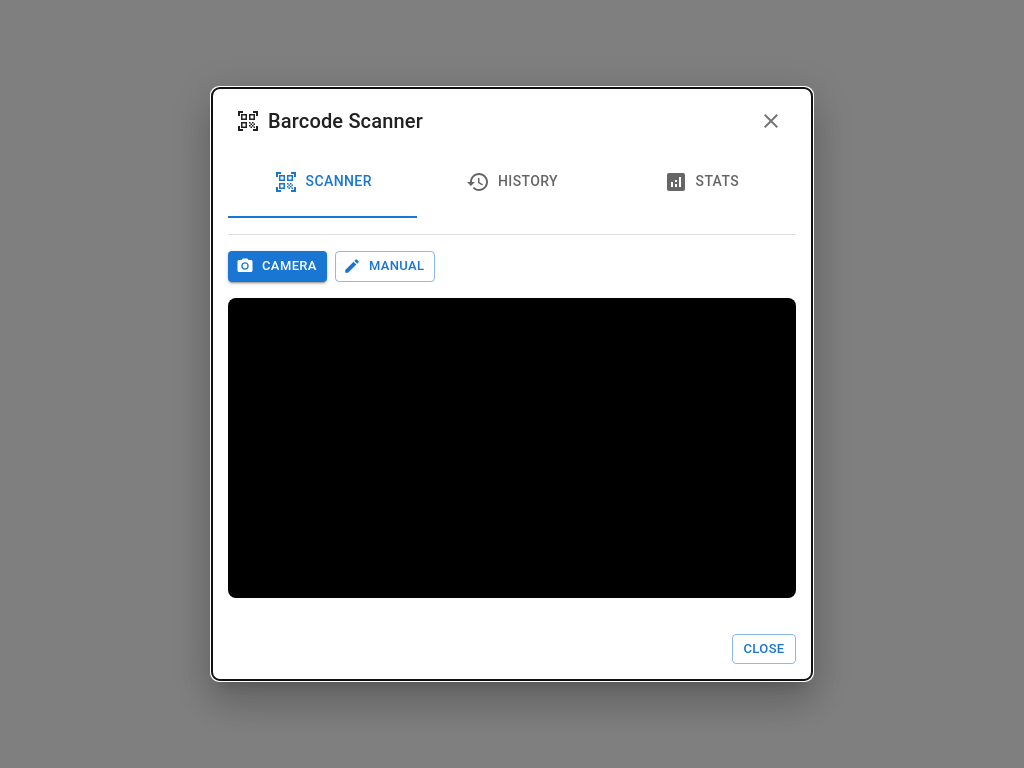
Test: EnhancedBarcodeScanner › should switch between camera and manual modes
Note: Switch to manual mode
Click the button "Manual".
click(385, 266)  # box [335, 251, 435, 282]
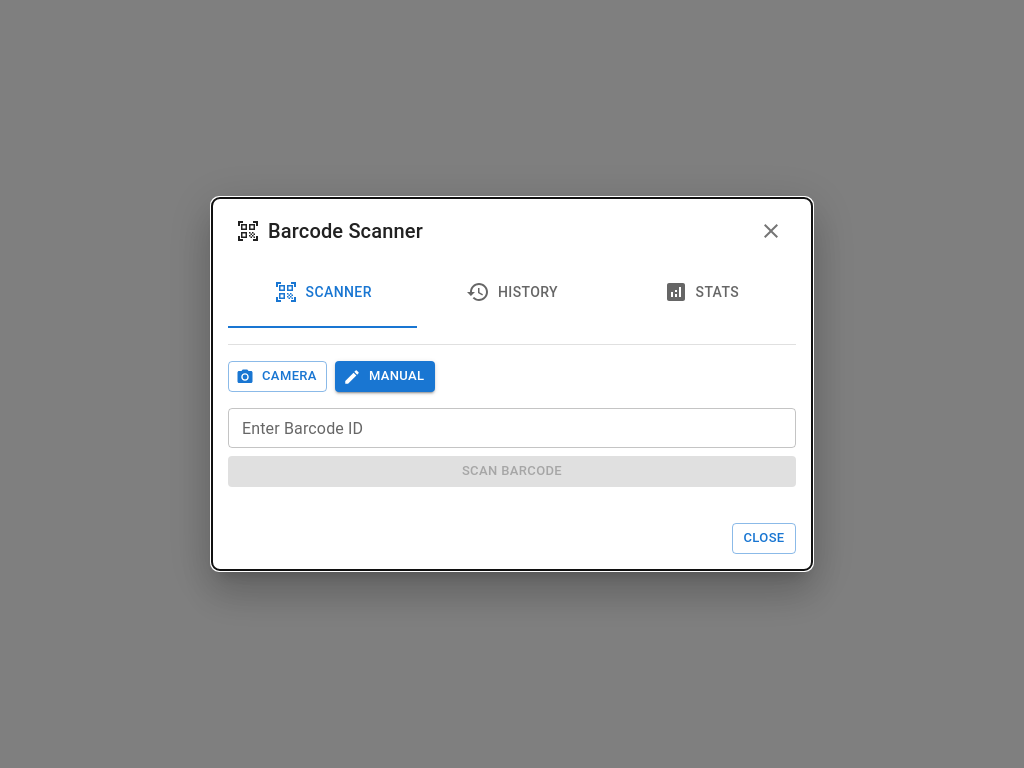
Expected: the field labelled "Enter Barcode ID" is shown, [228, 408, 796, 448]
Note: Switch back to camera mode
Click the button "Camera".
click(277, 377)  # box [228, 361, 327, 392]
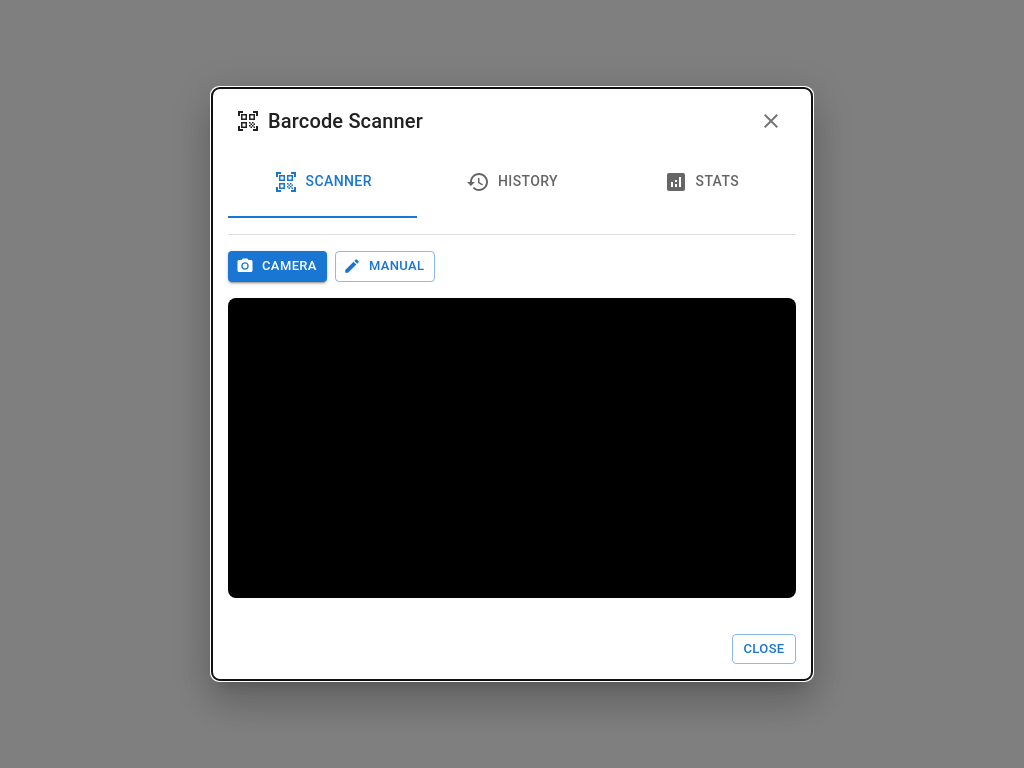
Expected: the label labelled "Enter Barcode ID" is gone
